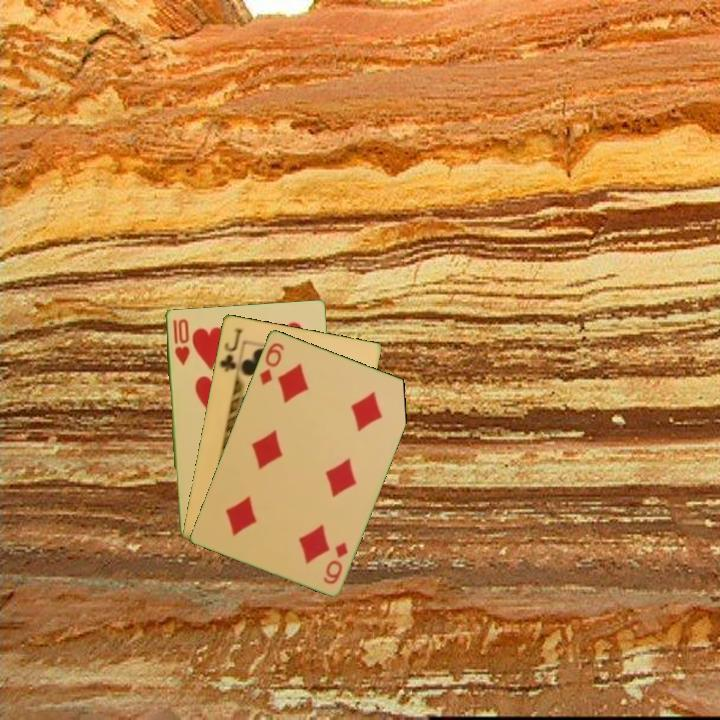10h: (169, 315, 192, 367)
6d: (255, 339, 287, 388), (319, 538, 351, 587)
Jc: (216, 324, 245, 375)
